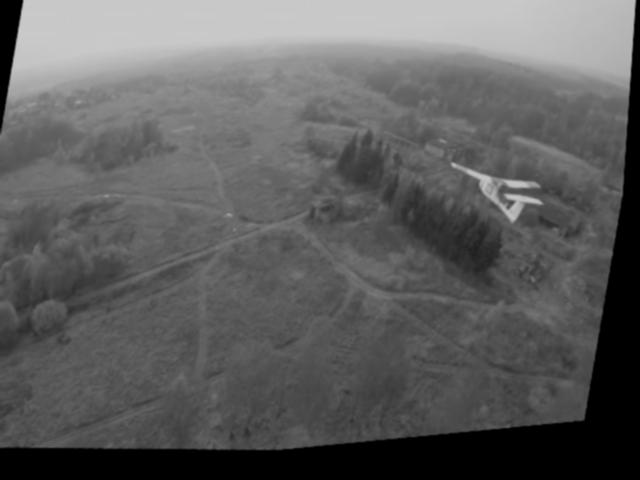hedef: (439, 157, 560, 250)
